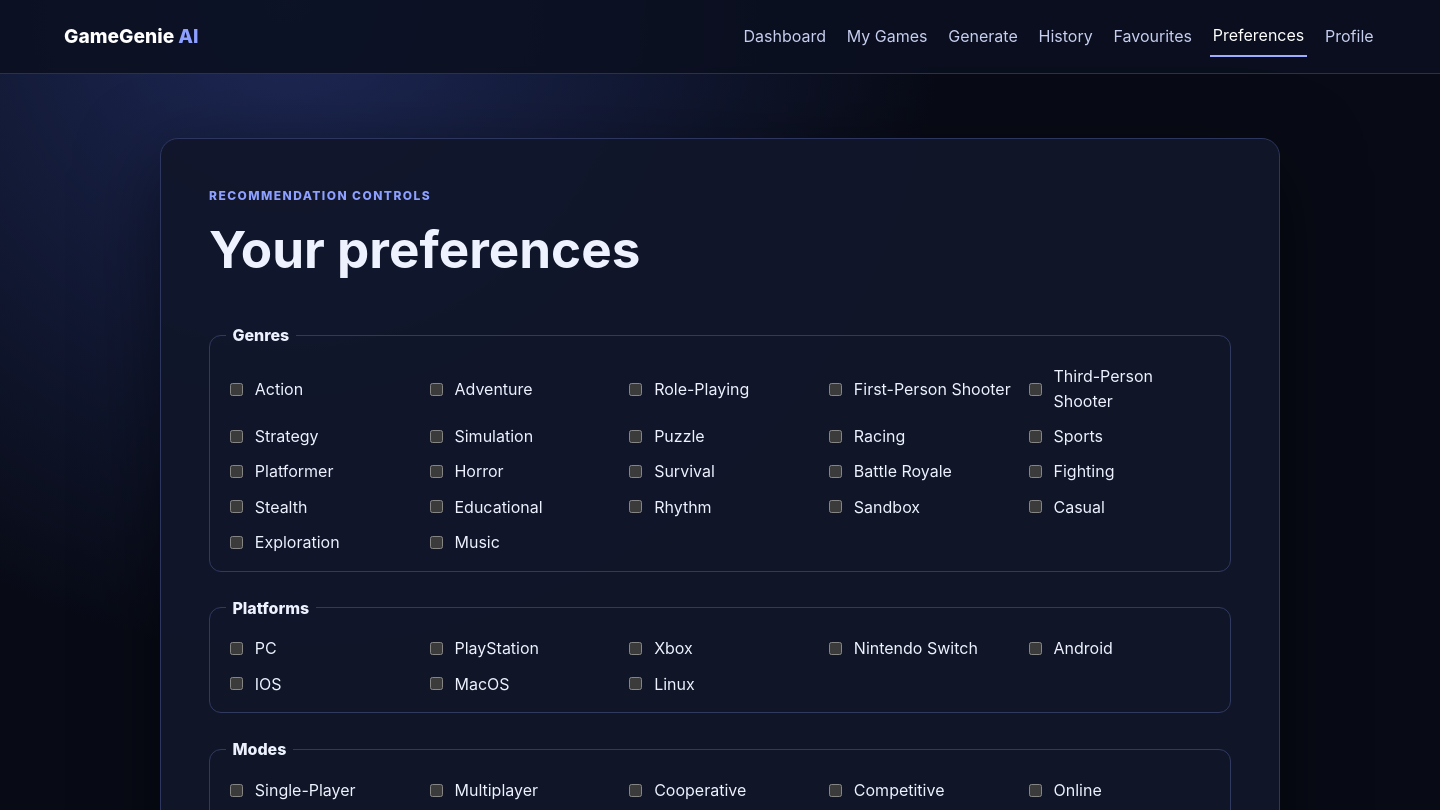
Test: loads and saves controlled preferences
Expected: the heading "Your preferences" is shown, 209,218 -> 640,280
Step 1. Click the checkbox labelled "strategy" → (236, 437), box 230,430 -> 243,443
(page scrolled)
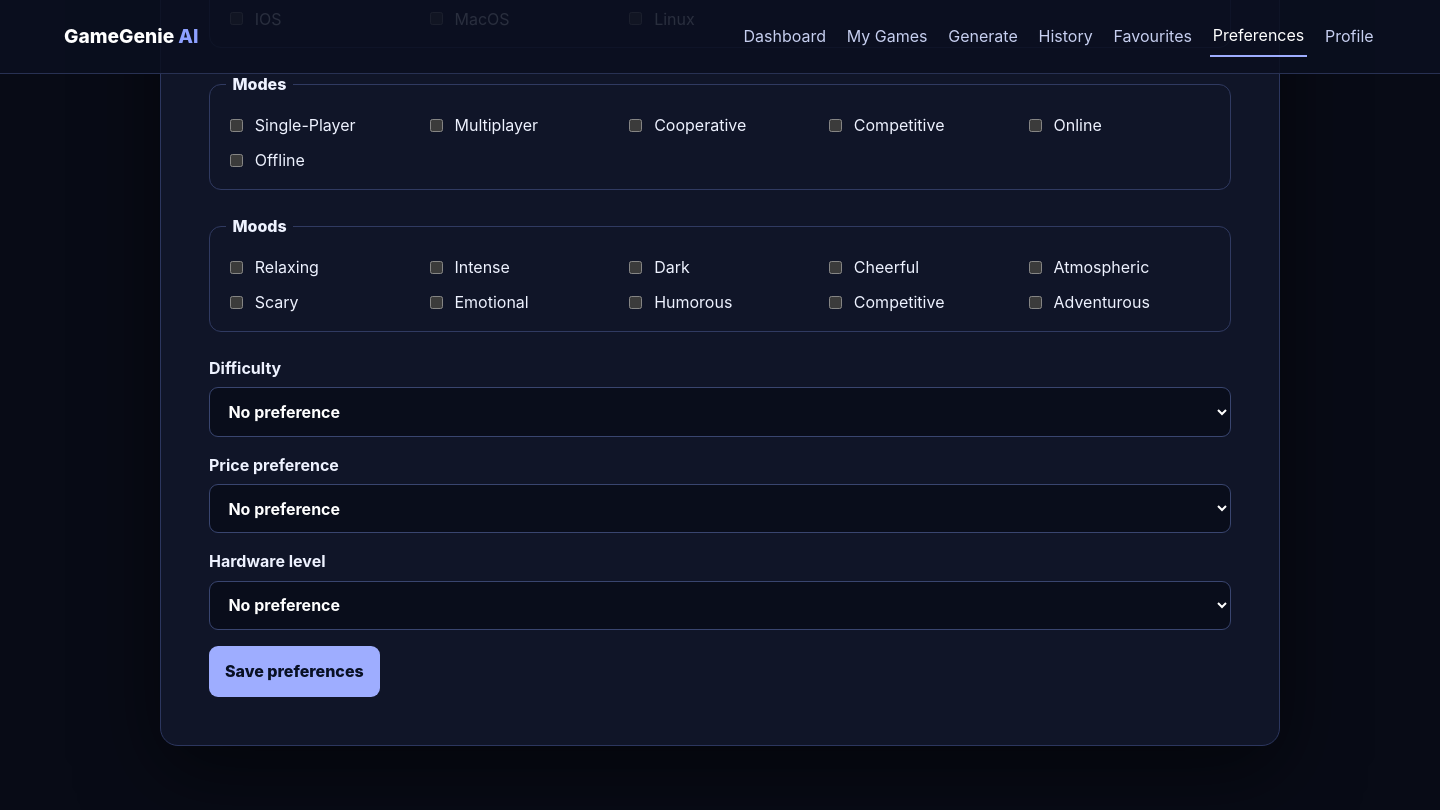
Step 2. Click the button "Save preferences" → (294, 672), box 209,646 -> 380,697
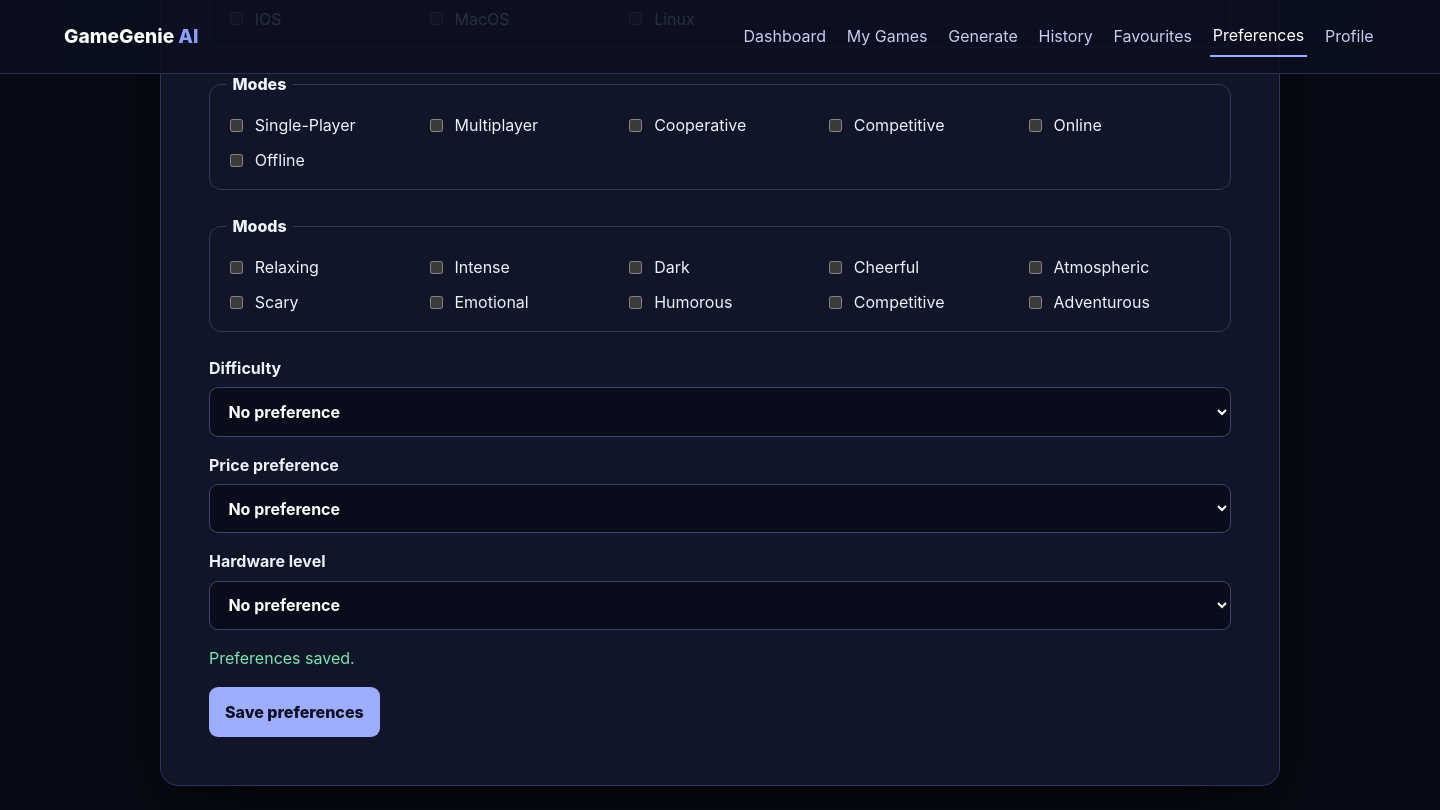
Expected: the text "Preferences saved." is shown, 209,648 -> 355,668
